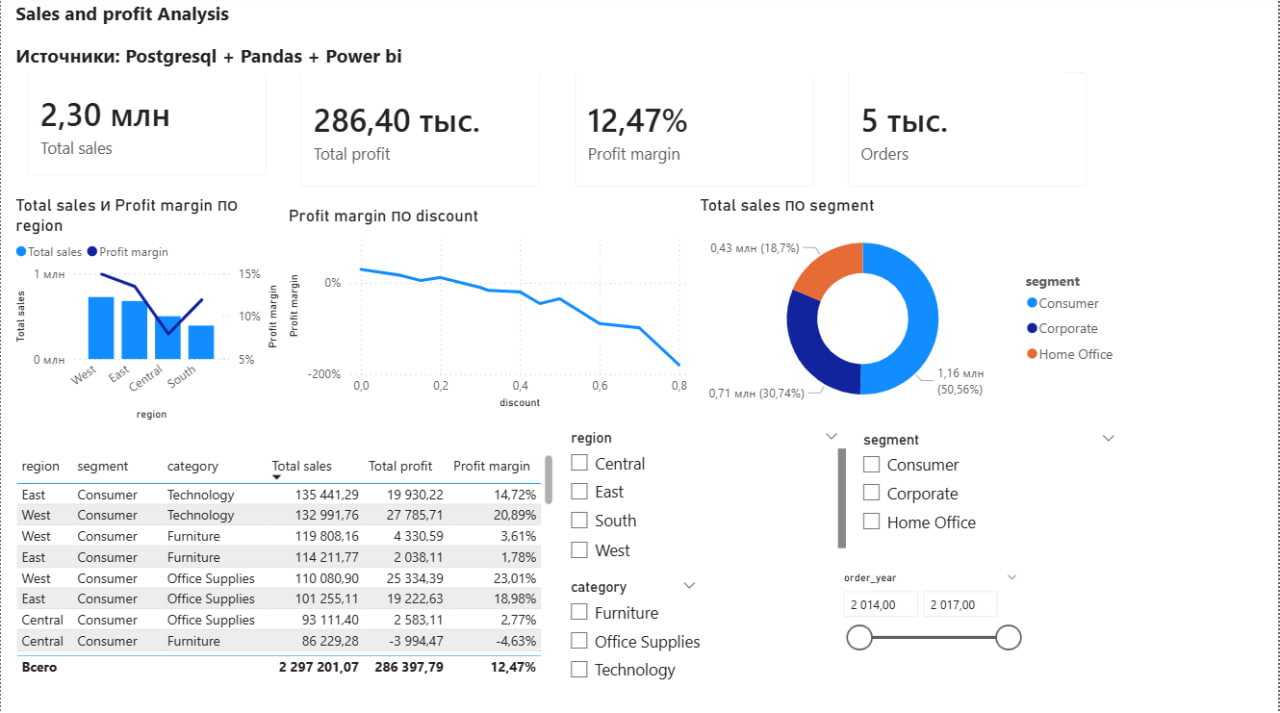

The dashboard page shown, as its layout file describes it:
{"tool":"powerbi","page":{"name":"Страница 1","canvas":[1280,720],"ordinal":0},"visuals":[{"type":"cardVisual","fields":{"Data":["public v_orders.Total sales"]},"box":[9.6,60.7,274.4,138.6],"z":0},{"type":"cardVisual","fields":{"Data":["public v_orders.Total profit"]},"box":[284,60.7,274.4,149.6],"z":1000},{"type":"cardVisual","fields":{"Data":["public v_orders.Profit margin"]},"box":[558.5,60.7,274.4,149.6],"z":2000},{"type":"cardVisual","fields":{"Data":["public v_orders.Orders"]},"box":[832.9,60.7,274.4,149.6],"z":3000},{"type":"lineClusteredColumnComboChart","fields":{"Category":["public v_orders.region"],"Y":["public v_orders.Total sales"],"Y2":["public v_orders.Profit margin"]},"box":[9.6,199.3,274.4,231.9],"z":4000},{"type":"lineChart","fields":{"Category":["public v_orders.discount"],"Y":["public v_orders.Profit margin"]},"box":[284,210.3,411.7,209.9],"z":4001},{"type":"donutChart","fields":{"Category":["public v_orders.segment"],"Y":["public v_orders.Total sales"]},"box":[695.7,199.3,433.6,231.9],"z":4002},{"type":"tableEx","fields":{"Values":["public v_orders.region","public v_orders.segment","public v_orders.category","public v_orders.Total sales","public v_orders.Total profit","public v_orders.Profit margin"]},"box":[9.6,455.9,548.9,231.9],"z":4003},{"type":"slicer","fields":{"Values":["public v_orders.region"]},"box":[558.5,431.2,293.7,141.3],"z":4004},{"type":"slicer","fields":{"Values":["public v_orders.segment"]},"box":[852,431.7,278,150],"z":4005},{"type":"slicer","fields":{"Values":["public v_orders.category"]},"box":[558.5,580.8,150.9,138.6],"z":4006},{"type":"slicer","fields":{"Values":["public v_orders.order_year"]},"box":[832.9,572.5,199,138.6],"z":4007},{"type":"textbox","box":[9.6,0,1056.6,79.6],"z":4008}]}

Visuals, with their boxes in screenshot pixels (x1, y1, x2, y2), scaled from the page's 1280x720 canvas onto the 1280x713 screenshot:
cardVisual - public v_orders.Total sales: <region>10, 60, 284, 197</region>
cardVisual - public v_orders.Total profit: <region>284, 60, 558, 208</region>
cardVisual - public v_orders.Profit margin: <region>558, 60, 833, 208</region>
cardVisual - public v_orders.Orders: <region>833, 60, 1107, 208</region>
lineClusteredColumnComboChart - public v_orders.region x public v_orders.Total sales: <region>10, 197, 284, 427</region>
lineChart - public v_orders.discount x public v_orders.Profit margin: <region>284, 208, 696, 416</region>
donutChart - public v_orders.segment x public v_orders.Total sales: <region>696, 197, 1129, 427</region>
tableEx - public v_orders.region x public v_orders.segment: <region>10, 451, 558, 681</region>
slicer - public v_orders.region: <region>558, 427, 852, 567</region>
slicer - public v_orders.segment: <region>852, 428, 1130, 576</region>
slicer - public v_orders.category: <region>558, 575, 709, 712</region>
slicer - public v_orders.order_year: <region>833, 567, 1032, 704</region>
textbox: <region>10, 0, 1066, 79</region>
